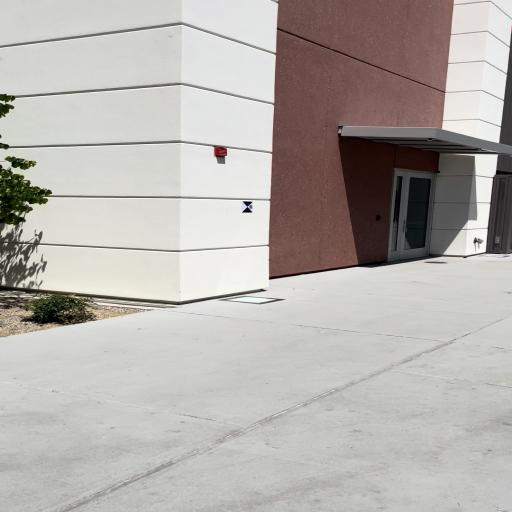target6: (242, 201, 254, 213)
